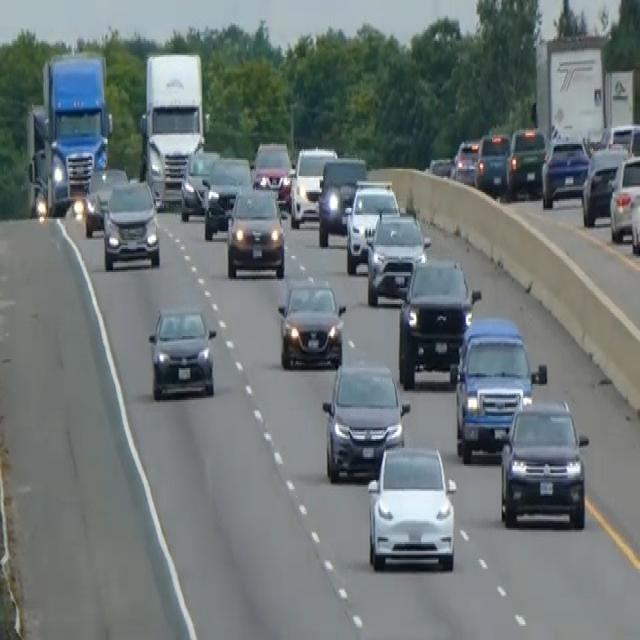car: (449, 315, 546, 462), (498, 396, 589, 530), (397, 254, 481, 388), (321, 357, 409, 482), (147, 304, 217, 400), (277, 276, 346, 370), (365, 208, 431, 306), (225, 185, 286, 279), (102, 176, 161, 270), (344, 181, 400, 274), (316, 155, 367, 245), (145, 130, 203, 208), (202, 153, 252, 240), (289, 144, 337, 226), (540, 133, 590, 208), (581, 144, 626, 226), (82, 166, 129, 237), (179, 146, 219, 220), (608, 151, 639, 242), (507, 124, 546, 196), (251, 138, 291, 204), (474, 130, 511, 196), (597, 121, 639, 158), (452, 135, 479, 185), (629, 180, 639, 256), (427, 153, 454, 178)
jeep: (365, 441, 458, 572)
lorry: (25, 50, 113, 217), (139, 48, 207, 206)
